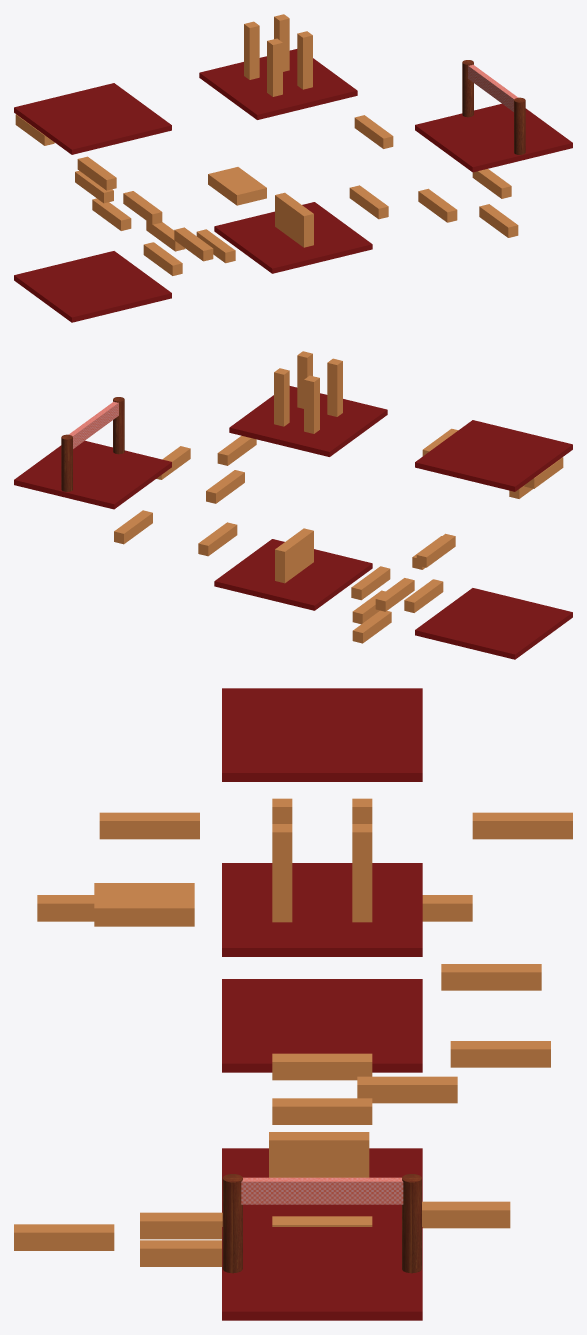
The model's file is H_stage_2.fbx.
3 views of the same model, one above another, from view 1: azimuth 30°, elevation 25°; view 2: azimuth 150°, elevation 25°; view 3: azimuth 270°, elevation 25° (orthographic). The views are drawn at different scales.
Parts seen in each view (by area): view 1: plane__1_, plane, plane3, plane2, plane__2_, block__11_, block__10_, block__8_, block5, block__4_, block__6_, block__7_ (+19 smaller); view 2: plane__1_, plane, plane3, plane2, plane__2_, block__9_, block__8_, block__10_, block3, block__3_, block, block__1_ (+14 smaller); view 3: plane__1_, plane3, plane, plane__2_, plane2, block__5_, block__6_, block, block2, block__1_, block4__2_, block__2_ (+16 smaller).
Part boxes in pixels (<box>): plane__1_: <box>14,83,171,154</box>; plane: <box>14,251,171,322</box>; plane3: <box>415,103,572,172</box>; plane2: <box>214,202,372,273</box>; plane__2_: <box>199,49,357,119</box>; block__11_: <box>297,31,312,89</box>; block__10_: <box>267,38,282,96</box>; block__8_: <box>244,21,259,79</box>; block5: <box>354,115,393,148</box>; block__4_: <box>77,156,116,190</box>; block__6_: <box>123,191,162,224</box>; block__7_: <box>174,227,213,261</box>; plane__1_: <box>415,420,572,491</box>; plane: <box>415,588,572,659</box>; plane3: <box>14,440,171,509</box>; plane2: <box>214,539,372,610</box>; plane__2_: <box>229,386,387,456</box>; block__9_: <box>274,368,289,426</box>; block__8_: <box>304,375,319,433</box>; block__10_: <box>327,358,342,416</box>; block3: <box>198,522,237,556</box>; block__3_: <box>375,578,414,611</box>; block: <box>404,579,443,612</box>; block__1_: <box>351,566,390,600</box>; plane__1_: <box>222,688,422,781</box>; plane3: <box>222,1227,422,1320</box>; plane: <box>222,979,422,1072</box>; plane__2_: <box>222,863,422,956</box>; plane2: <box>222,1148,422,1226</box>; block__5_: <box>472,812,572,839</box>; block__6_: <box>99,812,199,839</box>; block: <box>272,1053,372,1080</box>; block2: <box>357,1076,457,1103</box>; block__1_: <box>272,1098,372,1124</box>; block4__2_: <box>14,1224,114,1250</box>; block__2_: <box>450,1041,550,1067</box>.
Bounding box in the file's own units: 5000 × 2045 × 2788.
